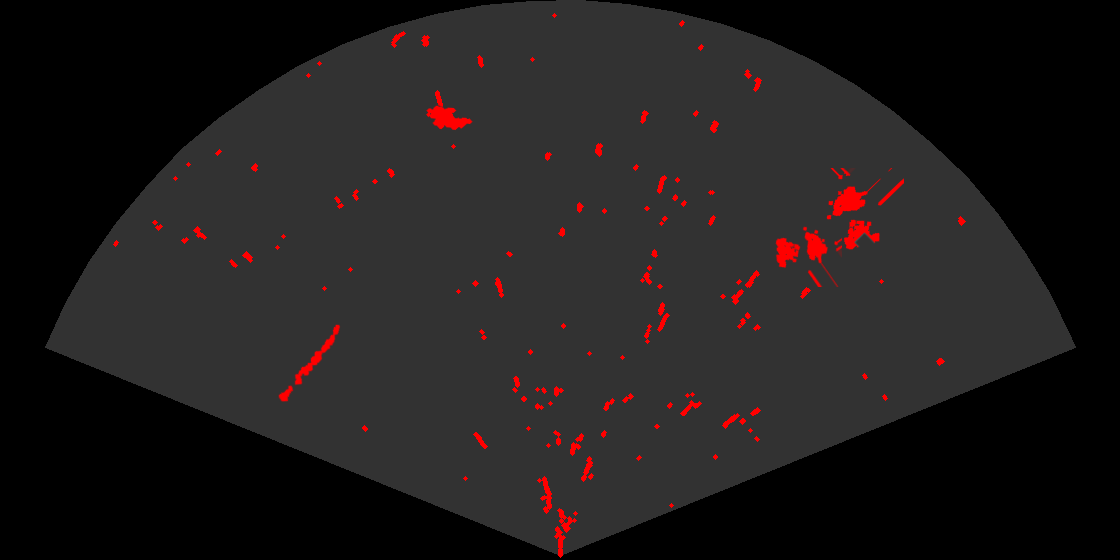AUV: (425, 104, 474, 132)
cage: (825, 168, 904, 251), (774, 225, 842, 287)
chain: (277, 323, 342, 403)
